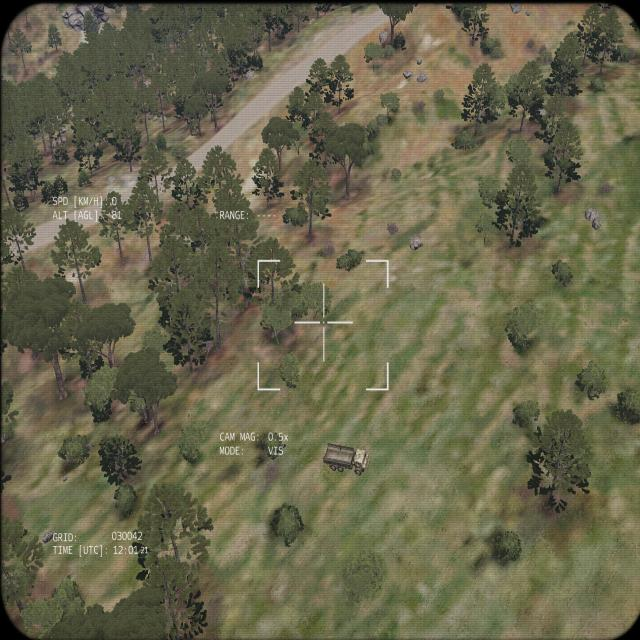truck: (322, 440, 368, 476)
